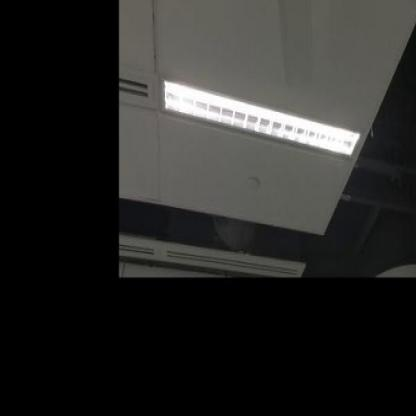light_on: (157, 64, 366, 175)
